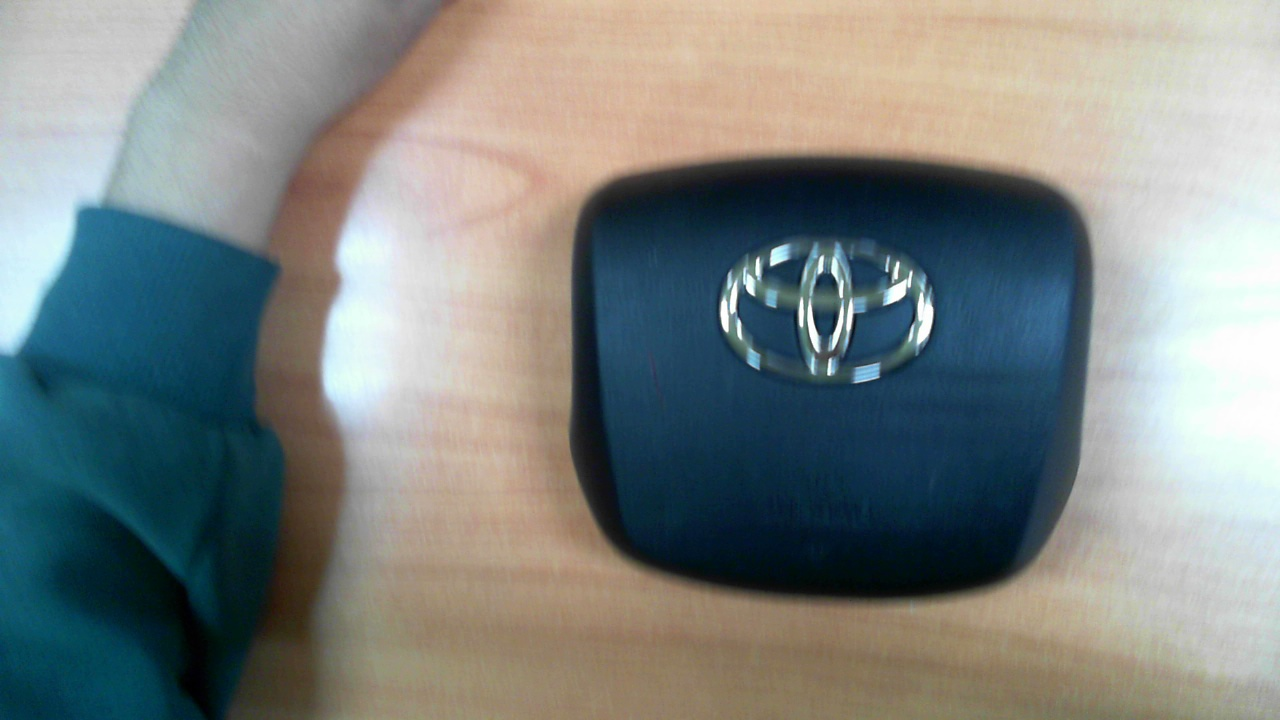Airbag: (568, 155, 1096, 600)
Toyota: (718, 237, 935, 385)
